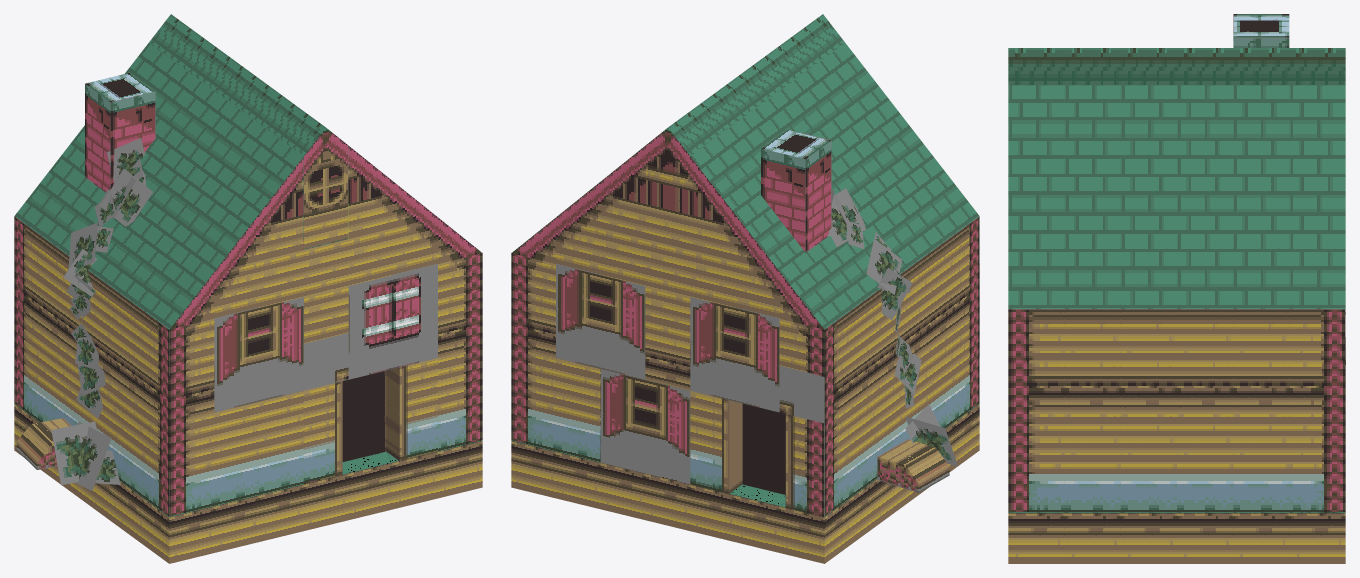
The model's file is house5.glb.
3 views of the same model, side by side, from view 1: azimuth 30°, elevation 25°; view 2: azimuth 150°, elevation 25°; view 3: azimuth 270°, elevation 25° (orthographic). The views are drawn at different scales.
Visible parts, largest first — view 1: Scenario.001; view 2: Scenario.001; view 3: Scenario.001.
Part boxes in pixels (x1,y1,x2,y2): Scenario.001: (14, 14, 482, 563); Scenario.001: (511, 14, 979, 563); Scenario.001: (1008, 14, 1345, 563).
Size of the model in its own units: 8.14 by 8.5 by 6.01.
1 material, 1 textured.
